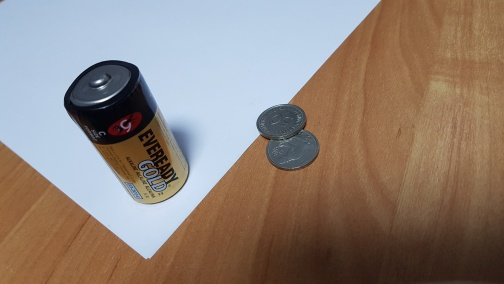coin: (265, 129, 320, 171), (256, 104, 307, 140)
